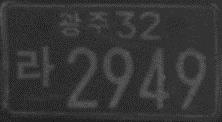2: (65, 46, 100, 109), (138, 9, 161, 43)
3: (114, 8, 137, 42)
4: (138, 48, 170, 110)
9: (172, 48, 207, 113), (102, 46, 136, 109)
광주_O: (57, 9, 110, 40)
라: (15, 45, 55, 87)
